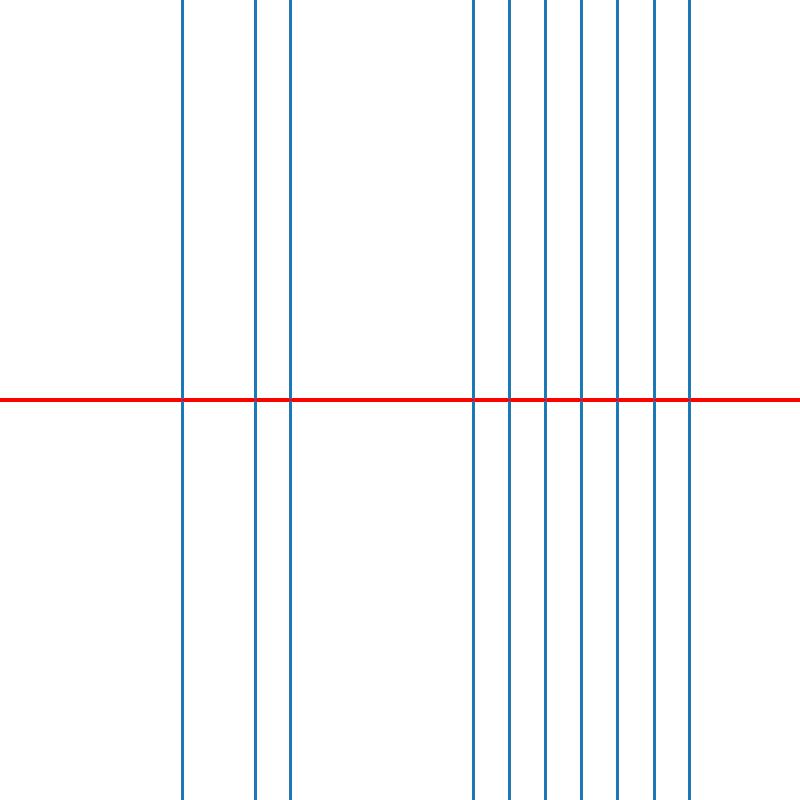root: (650, 396, 658, 404), (250, 396, 258, 404), (541, 396, 549, 404), (469, 396, 476, 404), (687, 396, 694, 404), (578, 396, 585, 404), (178, 396, 185, 404), (614, 396, 621, 404), (287, 396, 294, 404), (505, 396, 512, 404)
